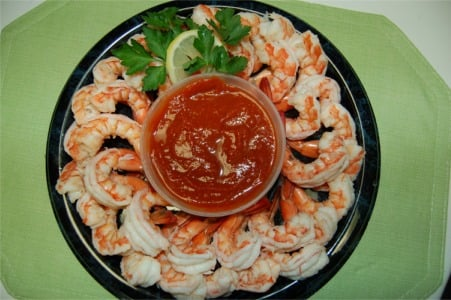sushi: (16, 1, 382, 296)
